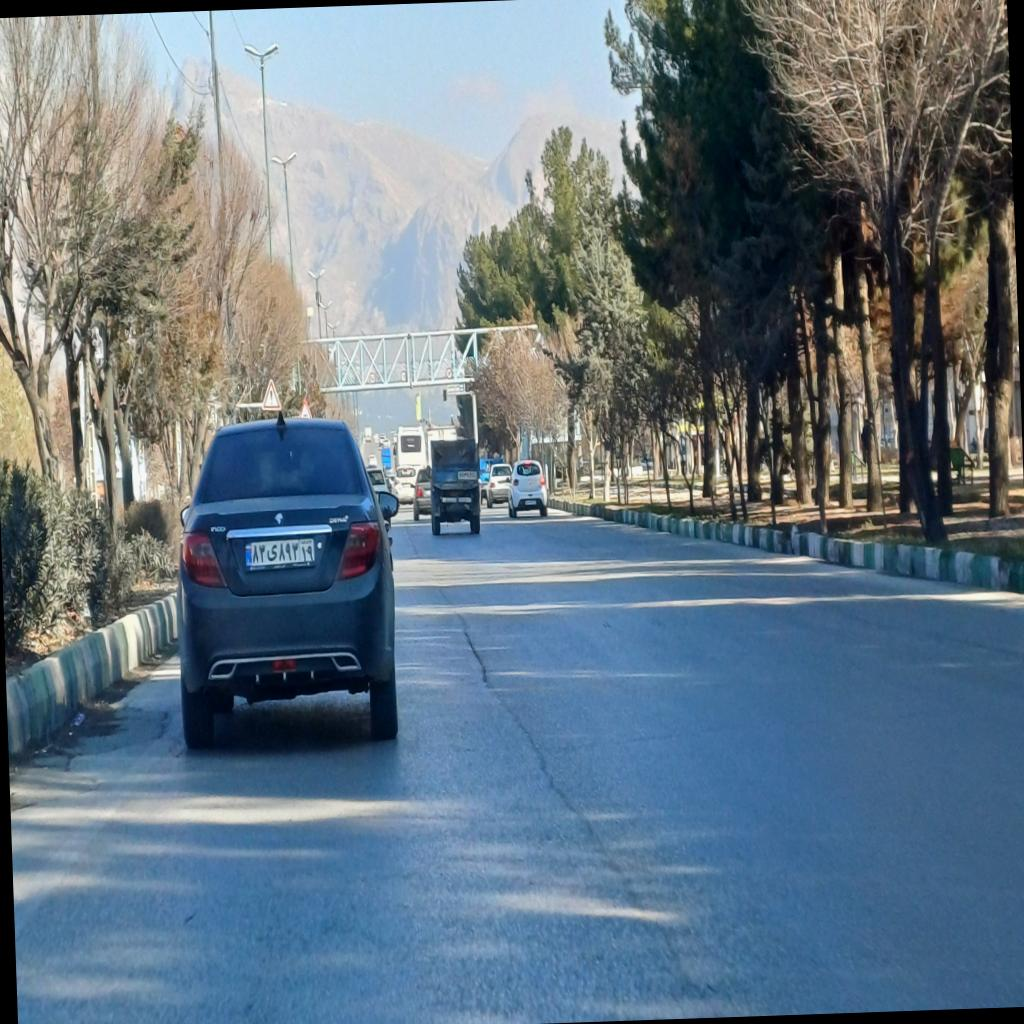Plates: (244, 538, 314, 566)
